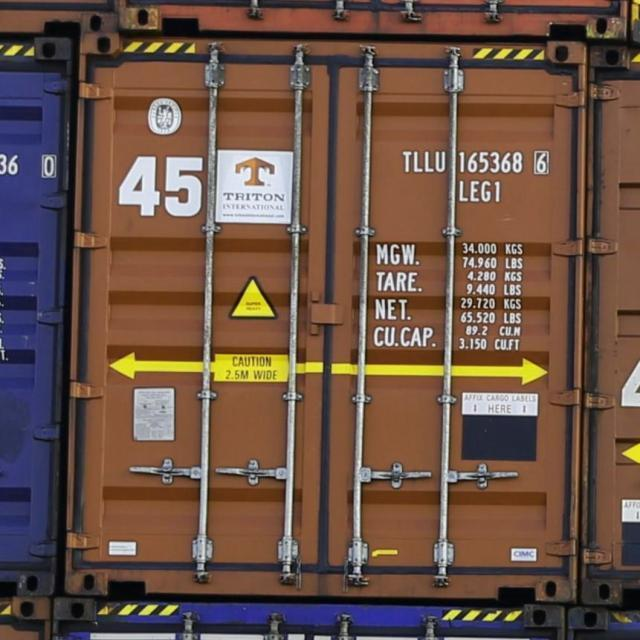ISO: (455, 180, 503, 203)
container_number: (408, 148, 552, 176)
